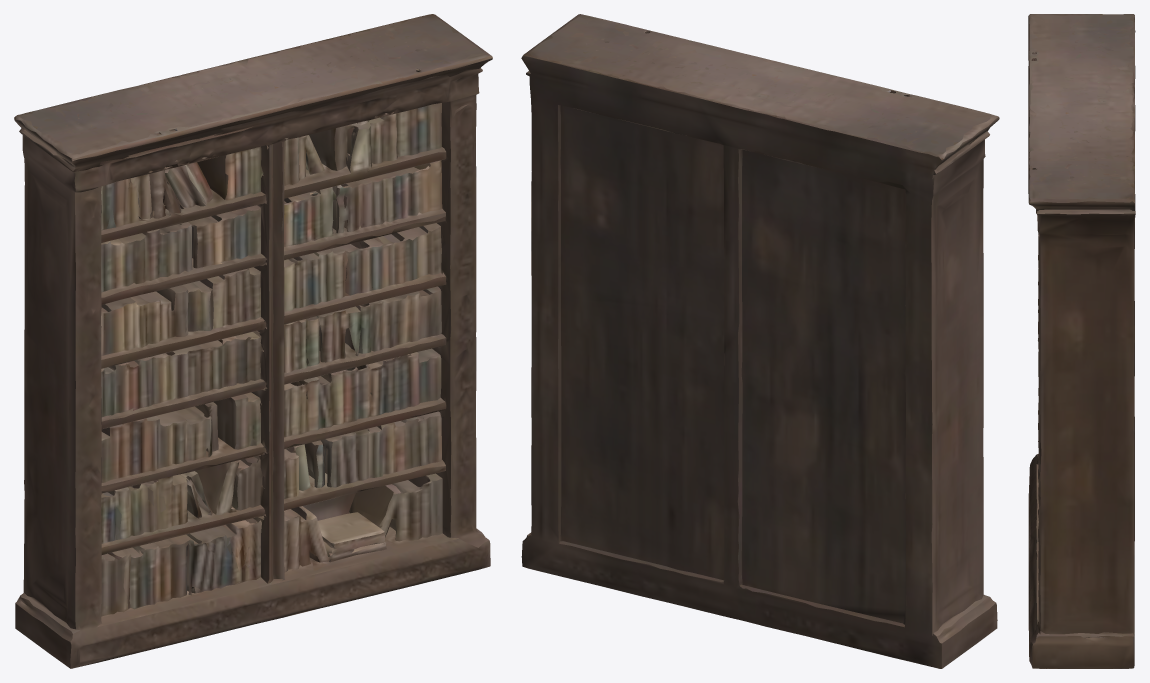
The model's file is obj_study_bookshelf.glb.
The picture shows the model from 3 angles, left to right: view 1: azimuth 30°, elevation 25°; view 2: azimuth 150°, elevation 25°; view 3: azimuth 270°, elevation 25°; orthographic projection. The views are drawn at different scales.
Visible parts, largest first — view 1: geometry_0; view 2: geometry_0; view 3: geometry_0.
Part boxes in pixels (left/top/right/bottom): geometry_0: left=14, top=14, right=492, bottom=668; geometry_0: left=521, top=14, right=999, bottom=668; geometry_0: left=1028, top=14, right=1135, bottom=668.
Bounding box in the file's own units: 2.06 × 2.4 × 0.4986.
1 material, 1 textured.
